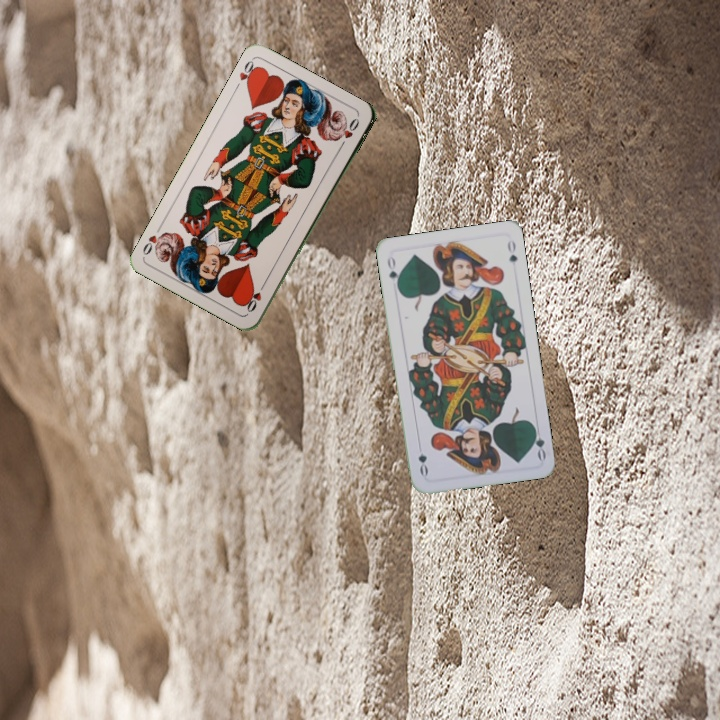GO: (529, 421, 548, 462), (383, 252, 402, 292)
HO: (230, 56, 261, 93), (243, 278, 269, 315)
